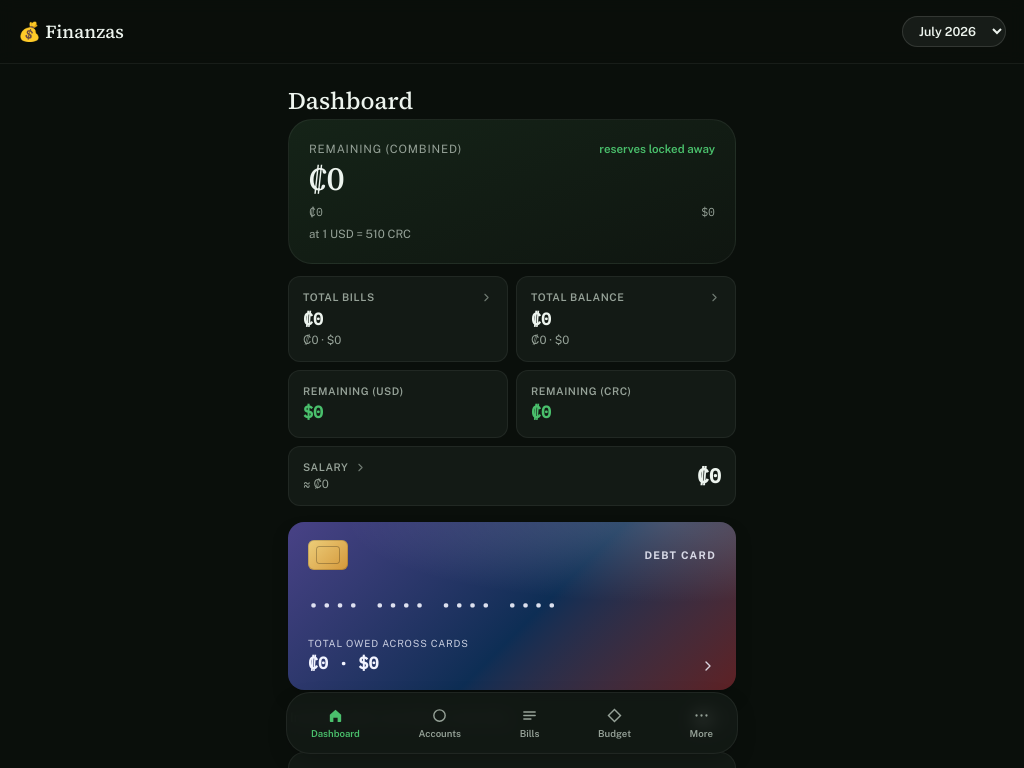
Test: Credit Cards — empty account › shows the empty message and zero debt
The width and height of the screenshot is (1024, 768).
Click the button "More": (701, 723) [684,703,719,743]
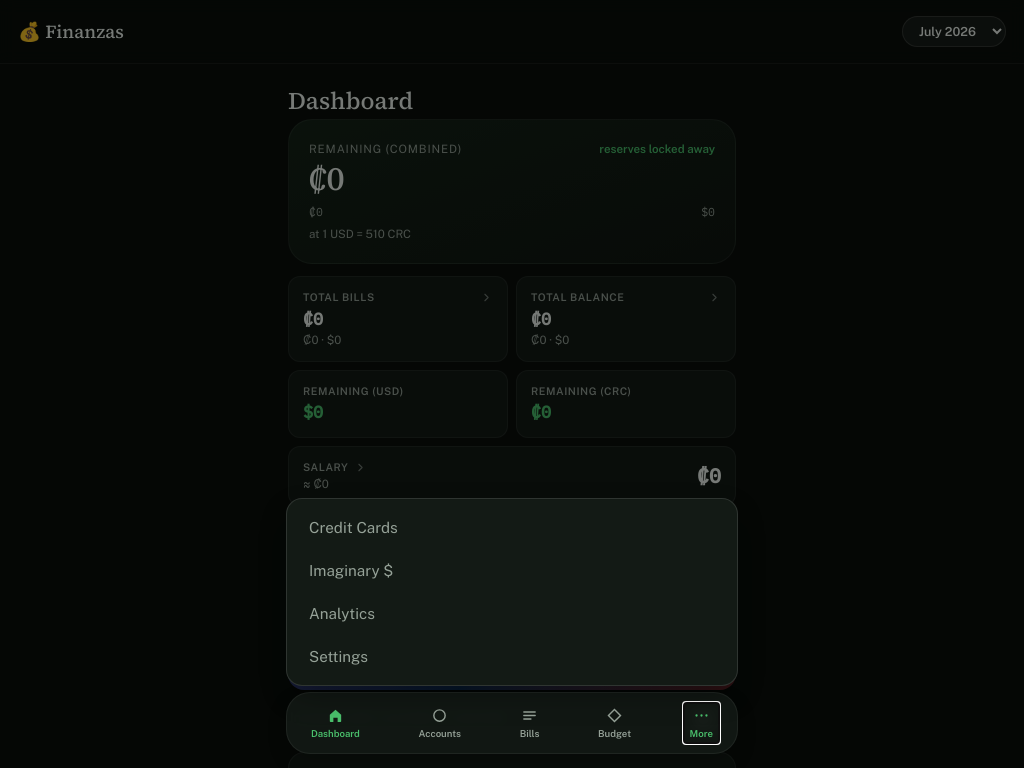
Click the button "Credit Cards": (353, 528) [295,507,729,548]
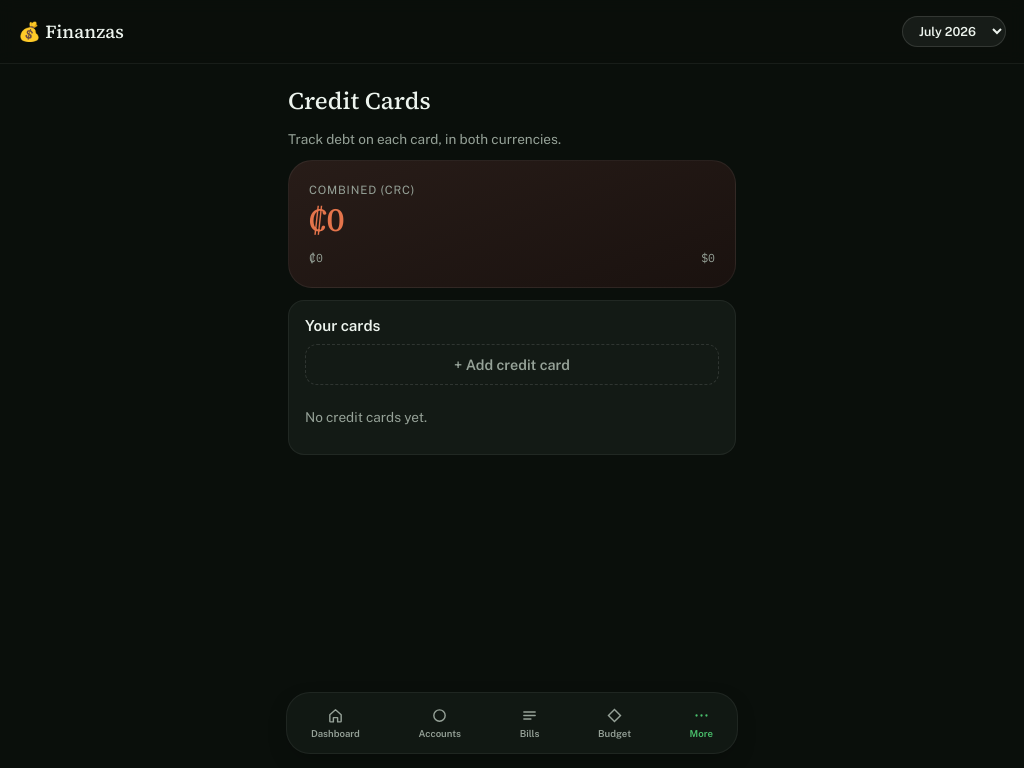
Result: the text "No credit cards yet." is shown at [305,409,427,425]
